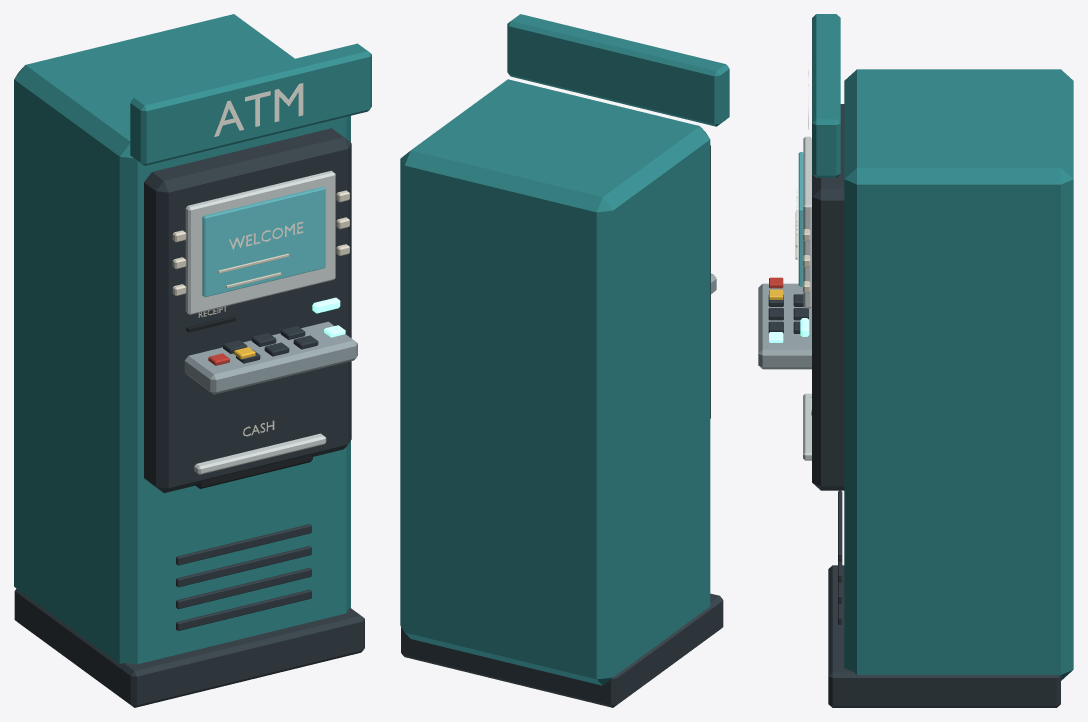
Rendered from ATM_Detailed.glb.
3 renders of one model, left to right at view 1: azimuth 30°, elevation 25°; view 2: azimuth 150°, elevation 25°; view 3: azimuth 270°, elevation 25°, orthographic. The views are drawn at different scales.
Parts seen in each view (by area): view 1: ATM_Detailed; view 2: ATM_Detailed; view 3: ATM_Detailed.
Part boxes in pixels (x1,y1,x2,y2): ATM_Detailed: [14, 14, 371, 707]; ATM_Detailed: [400, 14, 729, 707]; ATM_Detailed: [758, 14, 1073, 707].
Bounding box in the file's own units: 0.73 × 1.81 × 0.88.
